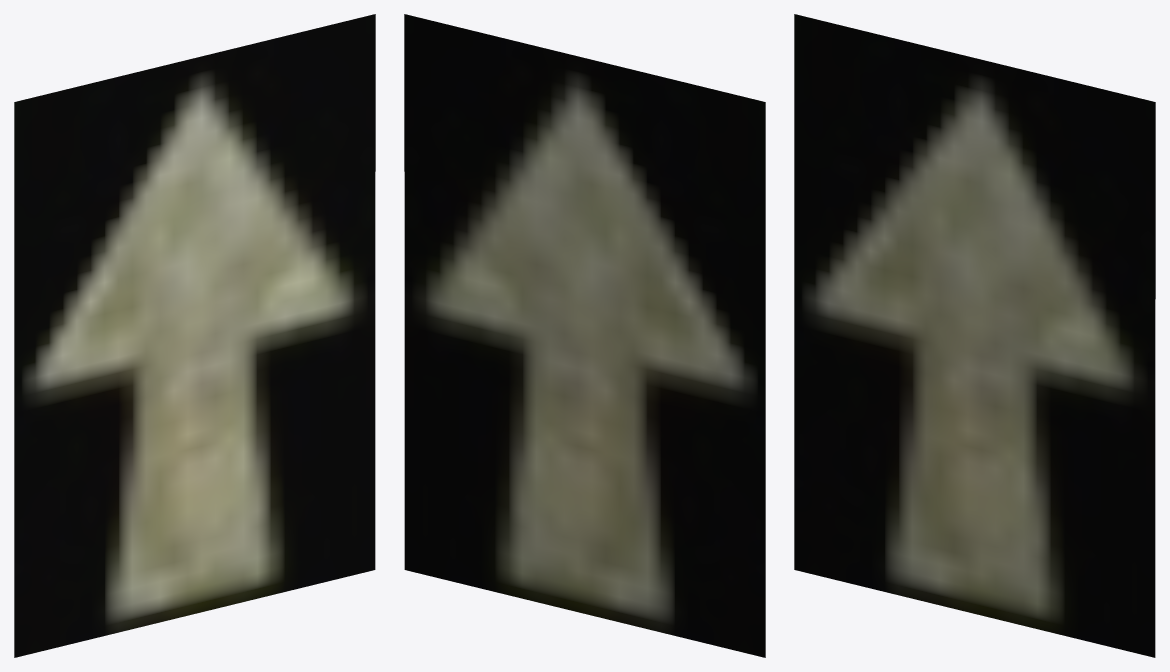
File: compass_arrow.fbx
3 views of the same model, side by side, from view 1: azimuth 30°, elevation 25°; view 2: azimuth 150°, elevation 25°; view 3: azimuth 330°, elevation 25° (orthographic).
Parts seen in each view (by area): view 1: compass_arrow; view 2: compass_arrow; view 3: compass_arrow.
Part boxes in pixels (x1=…): compass_arrow: x1=14, y1=14, x2=375, y2=657; compass_arrow: x1=404, y1=14, x2=765, y2=657; compass_arrow: x1=794, y1=14, x2=1155, y2=657.
Size of the model in its own units: 34.88 by 51.32 by 8.36e-06.
Materials: 1 (1 with a texture image).
